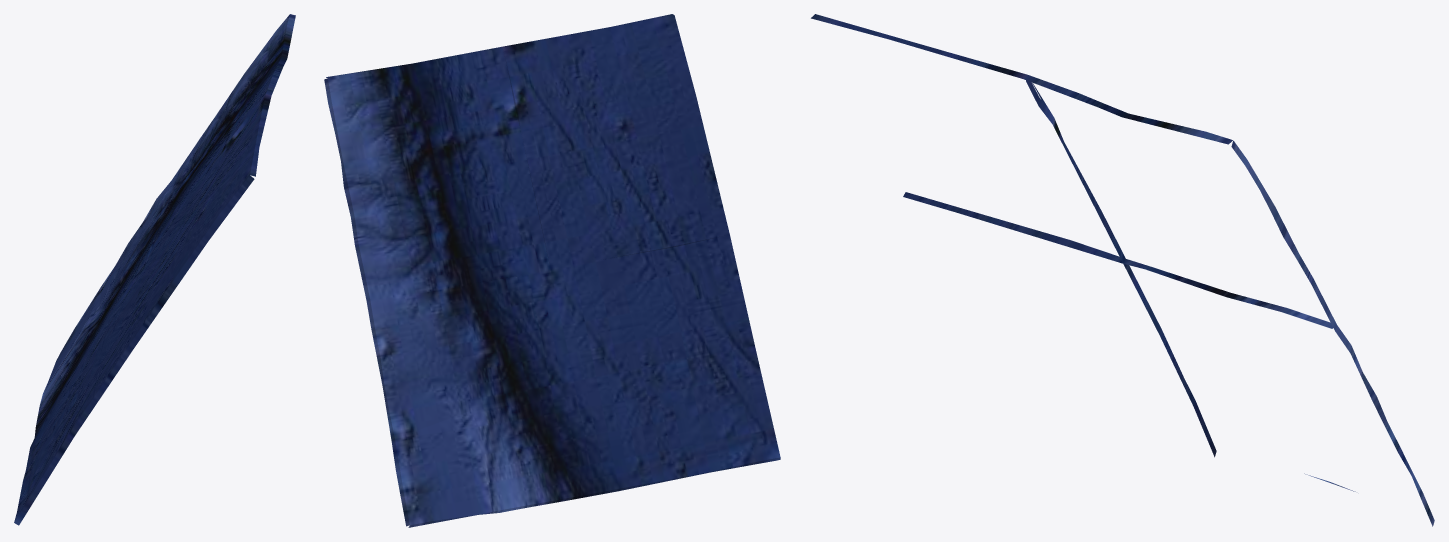
3 views of the same model, side by side, from view 1: azimuth 30°, elevation 25°; view 2: azimuth 150°, elevation 25°; view 3: azimuth 270°, elevation 25° (orthographic). The views are drawn at different scales.
Bounding box in the file's own units: 584474 × 545325 × 629808.
Materials: 1 (1 with a texture image).
